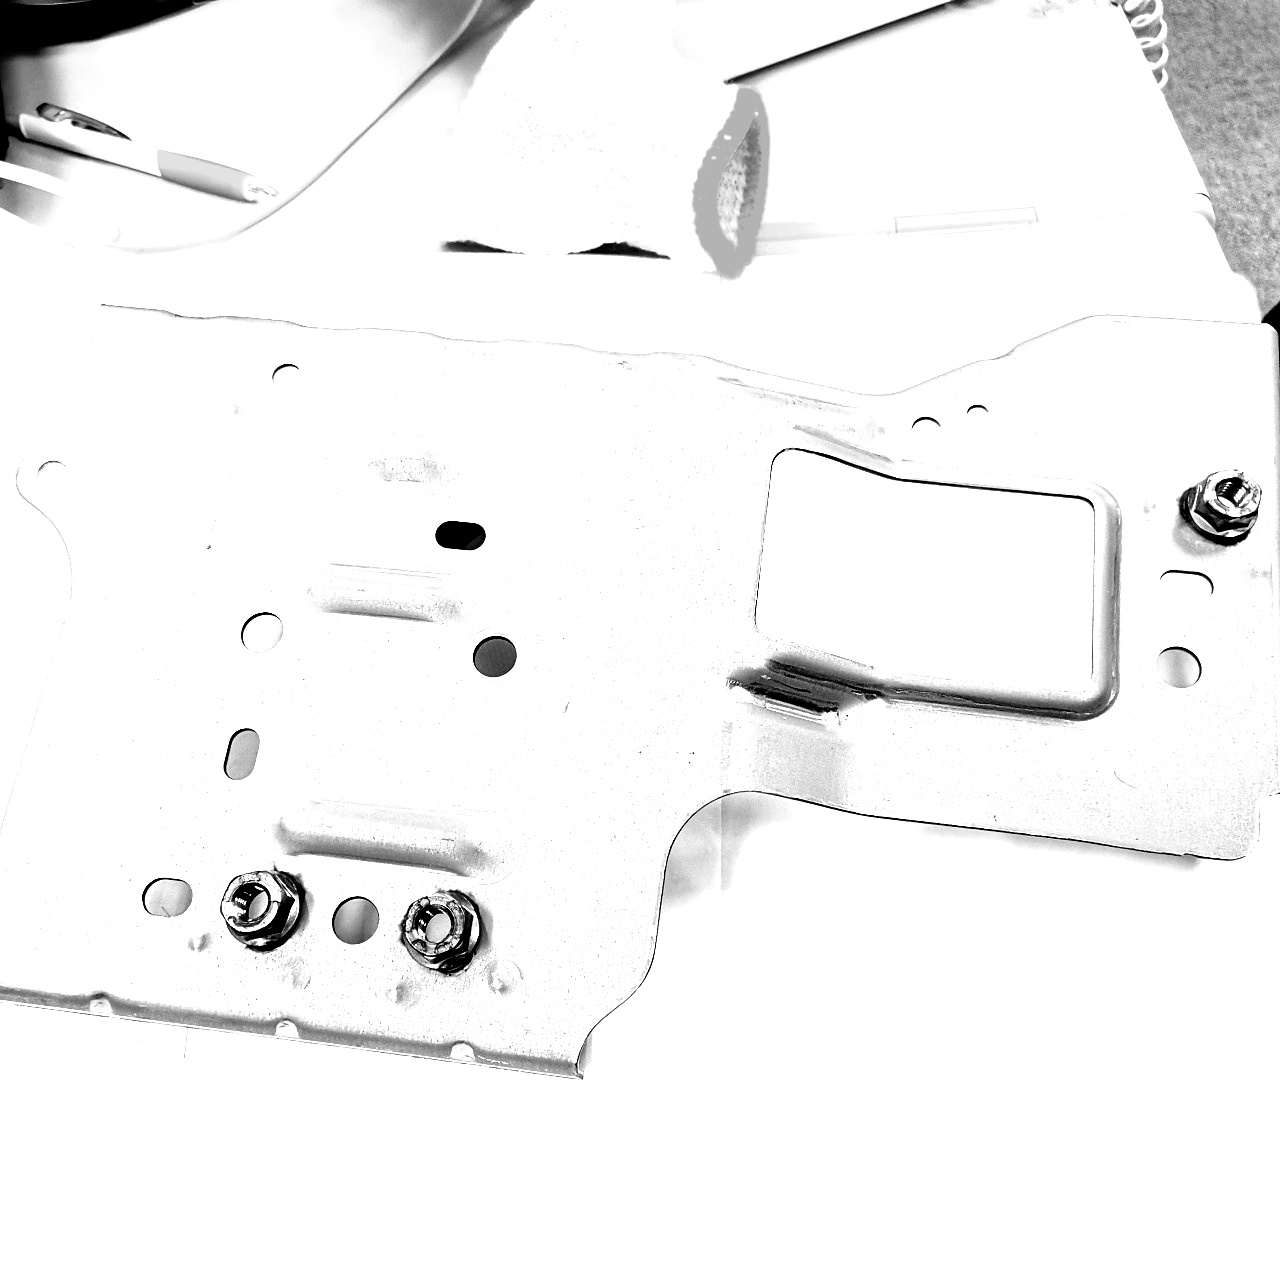dog: (396, 886, 488, 982), (215, 864, 308, 954), (1175, 467, 1269, 550)
